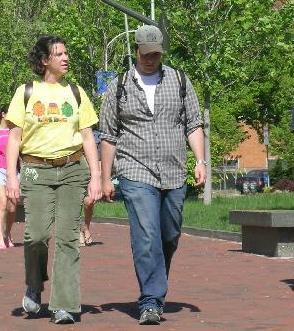deflection: (15, 39, 98, 126)
